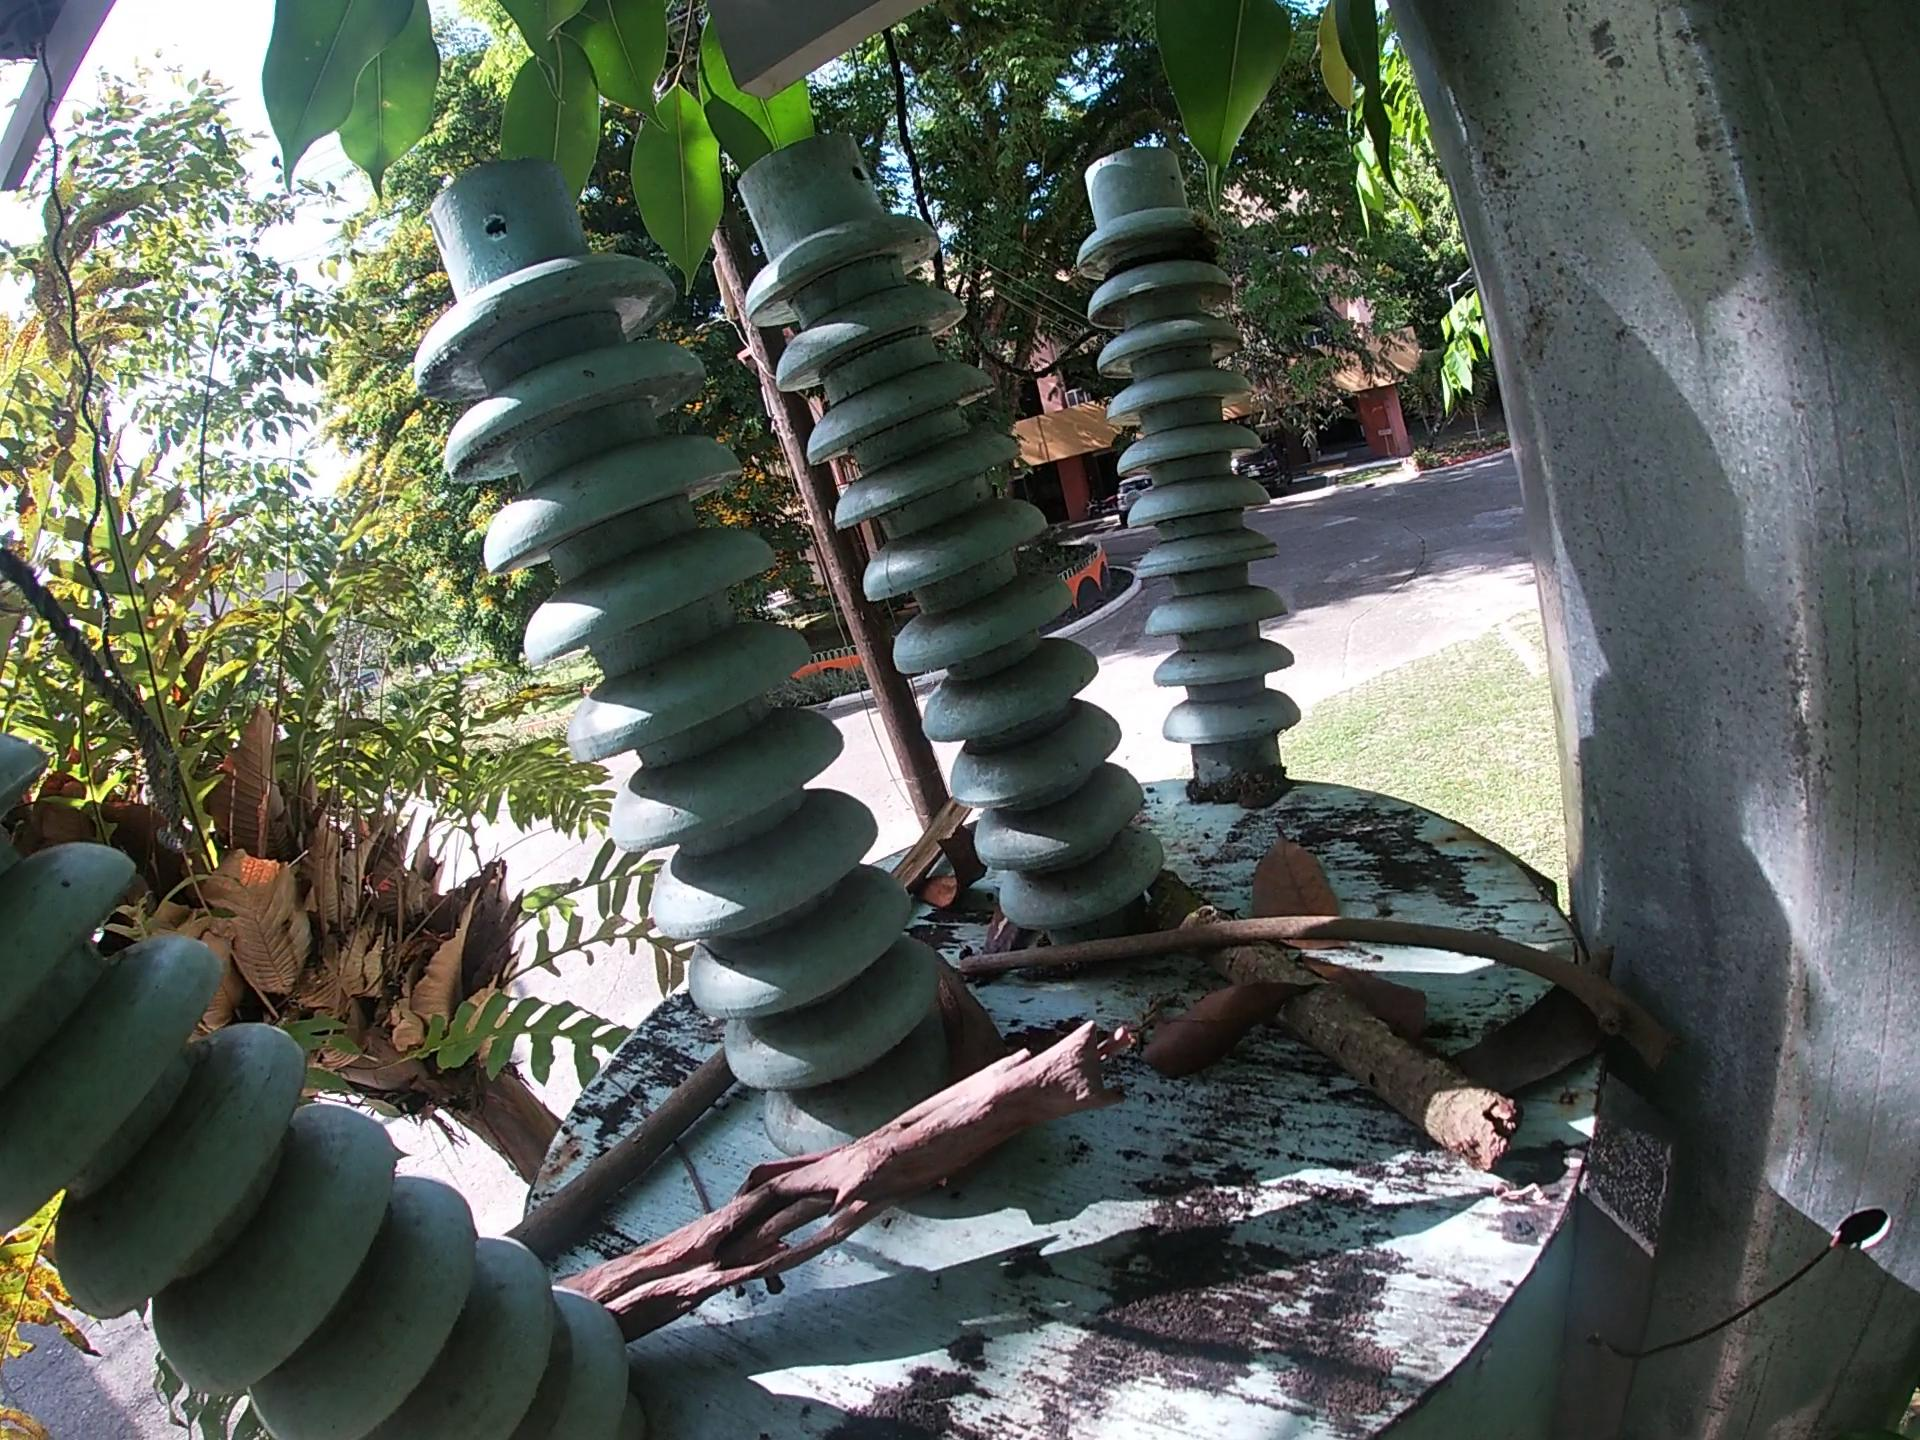leaf: (1445, 936, 1624, 1100), (1135, 967, 1321, 1085), (1238, 818, 1380, 956), (1305, 959, 1445, 1050)
mahogany fruit: (925, 957, 1017, 1198), (915, 824, 986, 918)
tree branch: (555, 1015, 1143, 1345), (937, 908, 1689, 1082), (1147, 867, 1528, 1181), (497, 1047, 739, 1272), (892, 796, 969, 892)
